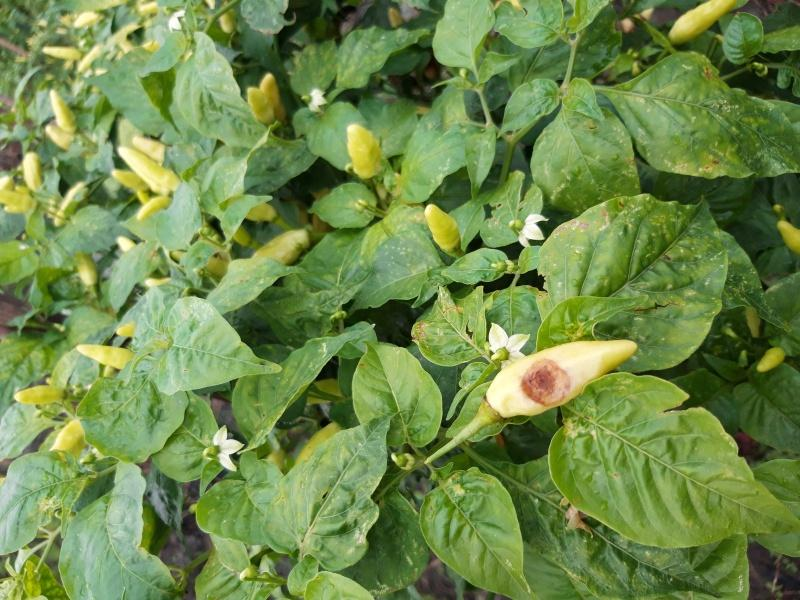antraknosa: (482, 338, 650, 422)
cabai_normal: (118, 144, 181, 193), (669, 1, 739, 45), (422, 202, 464, 257), (347, 123, 384, 179), (70, 344, 135, 373), (260, 73, 286, 121), (50, 89, 77, 133), (248, 87, 275, 123), (14, 385, 66, 403), (21, 152, 44, 190), (46, 126, 72, 149)
